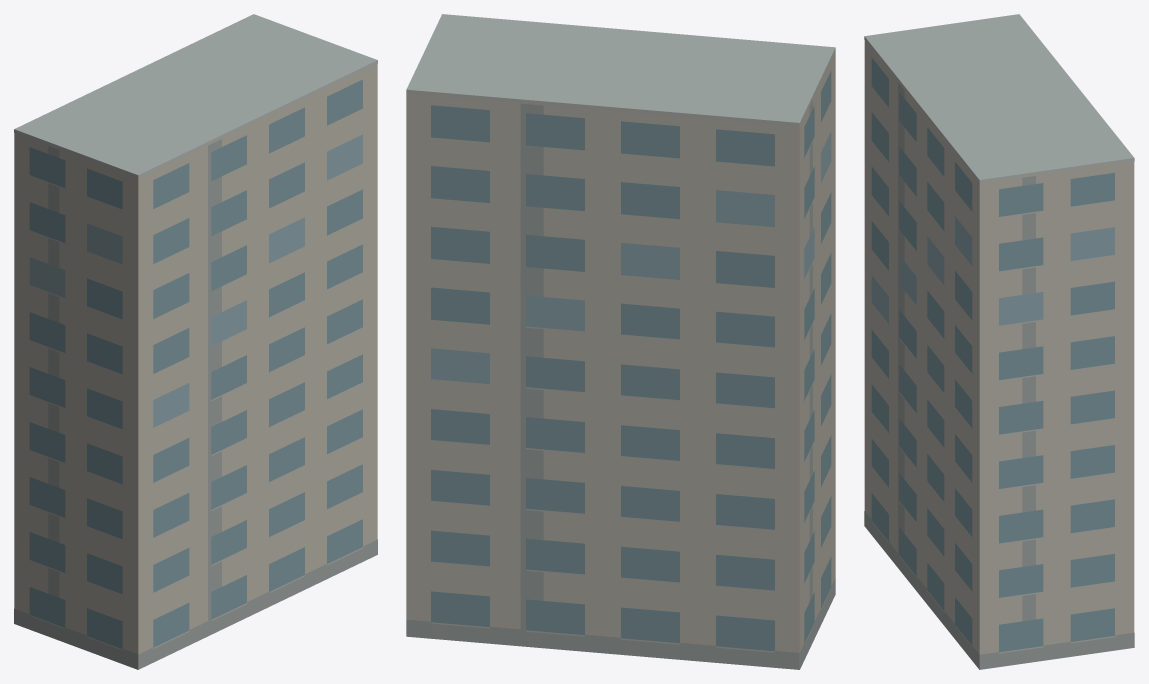
The model's file is residential-b9b0365c-aec2-4136-9f55-e8634ec72bcb.glb.
3 renders of one model, left to right at view 1: azimuth 30°, elevation 25°; view 2: azimuth 150°, elevation 25°; view 3: azimuth 270°, elevation 25°, orthographic. The views are drawn at different scales.
Visible parts, largest first — view 1: residential-b9b0365c-aec2-4136-9f55-e8634ec72bcb.tmp; view 2: residential-b9b0365c-aec2-4136-9f55-e8634ec72bcb.tmp; view 3: residential-b9b0365c-aec2-4136-9f55-e8634ec72bcb.tmp.
Boxes of the visible parts, x1,y1,x2,y2 form: residential-b9b0365c-aec2-4136-9f55-e8634ec72bcb.tmp: (14,14,377,669); residential-b9b0365c-aec2-4136-9f55-e8634ec72bcb.tmp: (406,14,835,669); residential-b9b0365c-aec2-4136-9f55-e8634ec72bcb.tmp: (864,14,1134,669).
Size of the model in its own units: 22.54 by 31 by 15.5.
